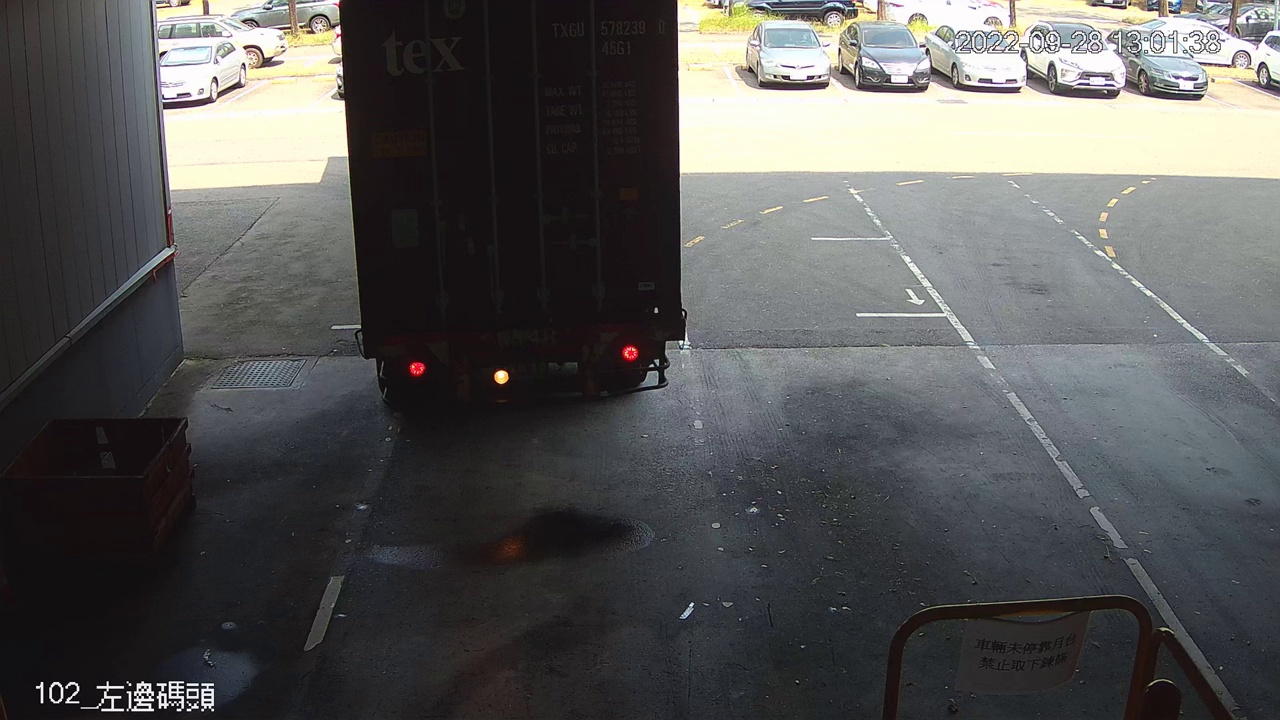container: (545, 15, 672, 62)
